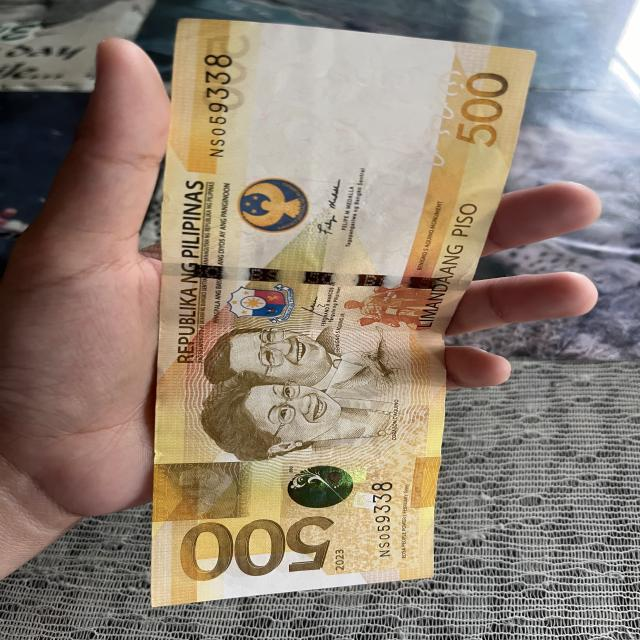concealed_value: (155, 461, 251, 525)
optically_variable_device: (278, 461, 362, 518)
security_thread: (158, 256, 444, 306)
see_through_mark: (425, 61, 466, 180)
serial_number: (189, 44, 232, 172), (366, 477, 403, 568)
value: (172, 512, 333, 585)
